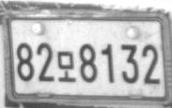1: (100, 43, 118, 83)
2: (142, 44, 161, 85), (35, 42, 54, 81)
3: (119, 43, 139, 84)
8: (79, 43, 98, 83), (16, 42, 34, 81)
모: (56, 51, 76, 83)
